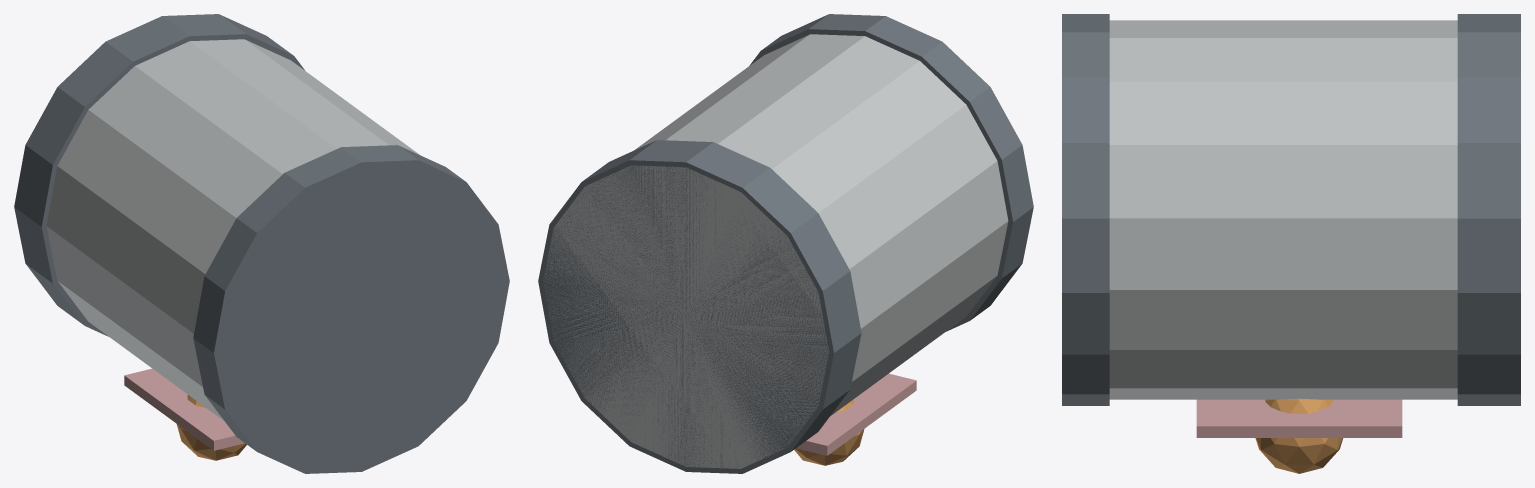
Rendered from canned_peaches.glb.
3 renders of one model, left to right at view 1: azimuth 30°, elevation 25°; view 2: azimuth 150°, elevation 25°; view 3: azimuth 270°, elevation 25°, orthographic. The views are drawn at different scales.
Visible parts, largest first — view 1: 02_top_rim, 00_can_body, 01_bottom_rim, 03_label, 05_peach_graphic; view 2: 00_can_body, 01_bottom_rim, 02_top_rim, 03_label, 05_peach_graphic; view 3: 00_can_body, 01_bottom_rim, 02_top_rim, 03_label, 06_peach_graphic.
Boxes of the visible parts, x1,y1,x2,y2 form: 02_top_rim: (193, 145, 509, 473); 00_can_body: (46, 39, 420, 421); 01_bottom_rim: (14, 14, 304, 336); 03_label: (124, 368, 244, 450); 05_peach_graphic: (176, 395, 246, 460); 00_can_body: (543, 34, 1008, 468); 01_bottom_rim: (538, 140, 861, 473); 02_top_rim: (749, 14, 1033, 331); 03_label: (796, 373, 916, 455); 05_peach_graphic: (794, 400, 864, 465); 00_can_body: (1109, 20, 1457, 399); 01_bottom_rim: (1457, 14, 1520, 405); 02_top_rim: (1062, 14, 1109, 405); 03_label: (1196, 399, 1402, 437); 06_peach_graphic: (1255, 398, 1343, 473).
Bounding box in the file's own units: 0.248 × 0.289 × 0.29.
